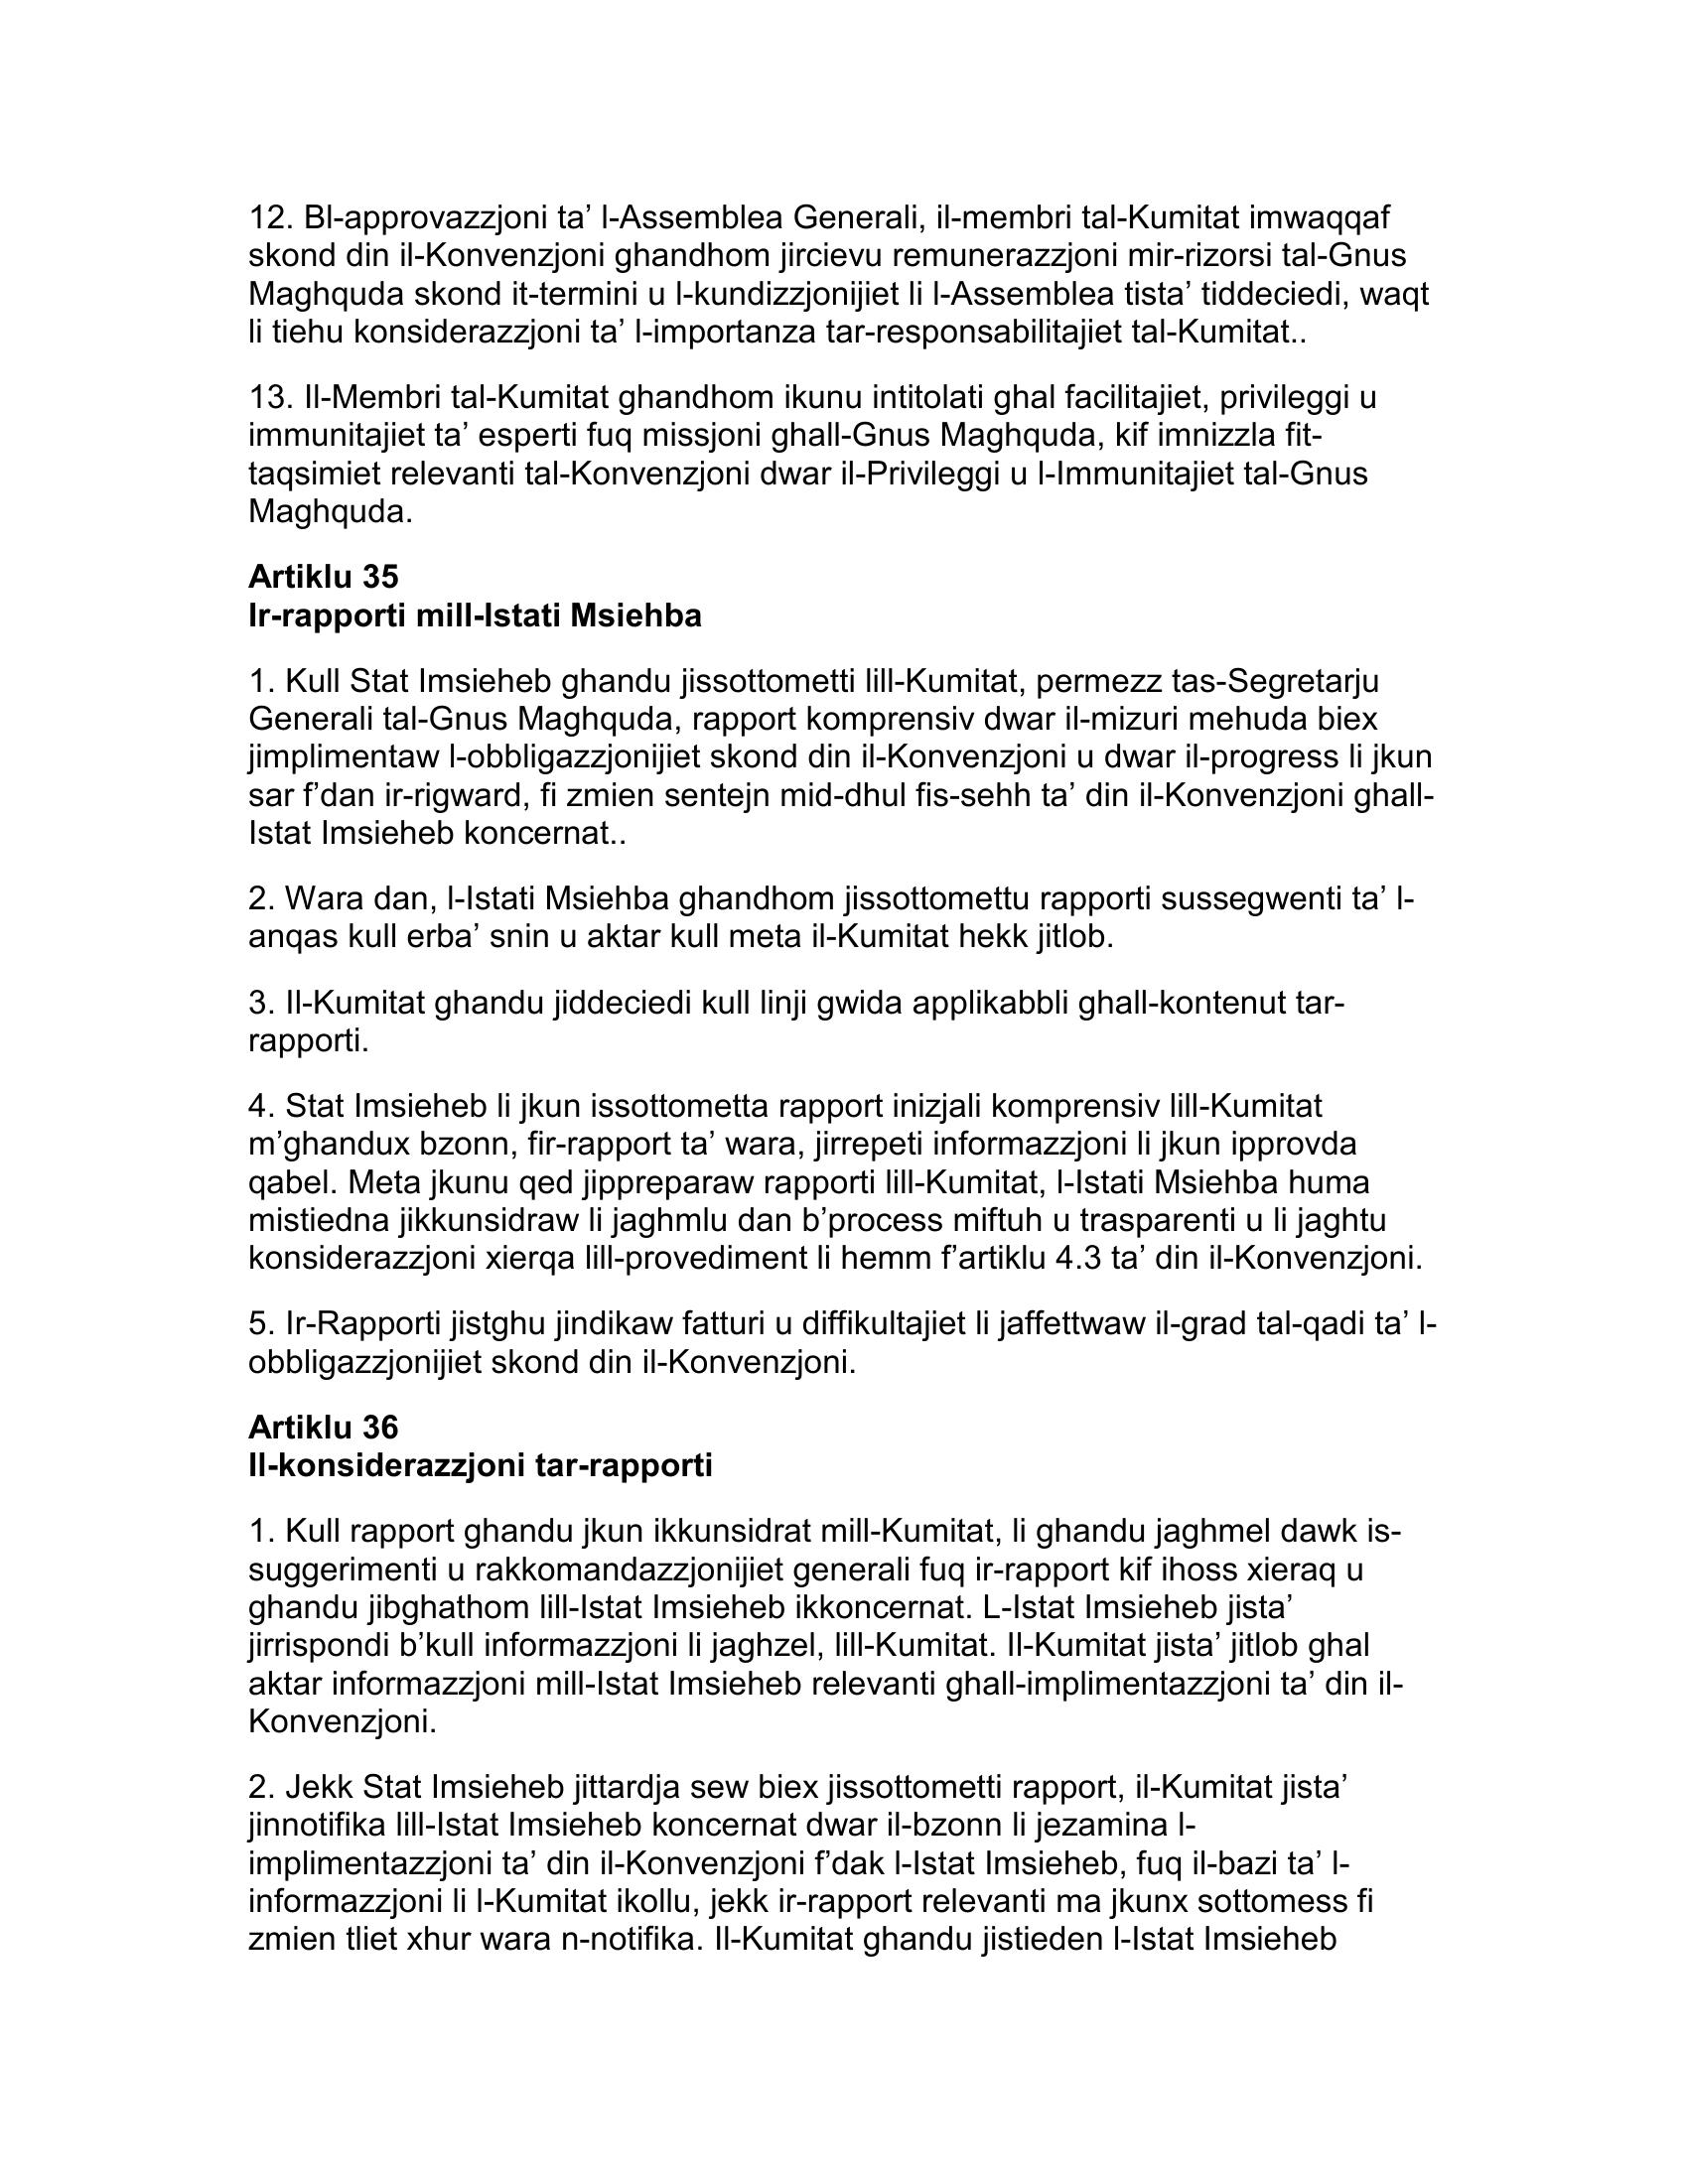text: (223, 179, 1450, 1980)
